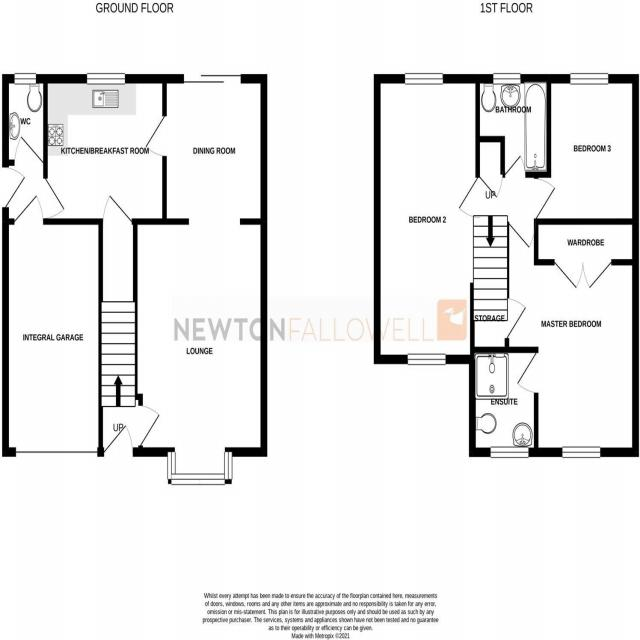DOOR: (514, 346, 539, 396), (532, 177, 557, 226), (100, 191, 134, 226), (13, 134, 49, 167), (103, 423, 135, 459), (143, 114, 168, 160), (1, 166, 26, 211), (42, 176, 66, 220), (12, 194, 45, 226), (456, 175, 480, 219), (506, 218, 538, 251), (137, 404, 161, 447), (504, 297, 528, 340), (475, 171, 504, 200), (503, 153, 528, 179)
ROOM: (131, 69, 270, 487), (371, 72, 484, 366), (506, 217, 640, 459), (43, 72, 168, 227), (533, 72, 640, 225)
SLIDING DOOR: (181, 72, 243, 84)
WINDOW: (166, 473, 226, 486), (406, 352, 447, 368), (561, 444, 602, 459), (568, 71, 610, 85), (86, 71, 127, 85), (403, 72, 444, 86), (489, 445, 530, 459), (492, 72, 522, 85), (13, 72, 37, 85), (223, 451, 233, 480), (167, 451, 176, 480)
